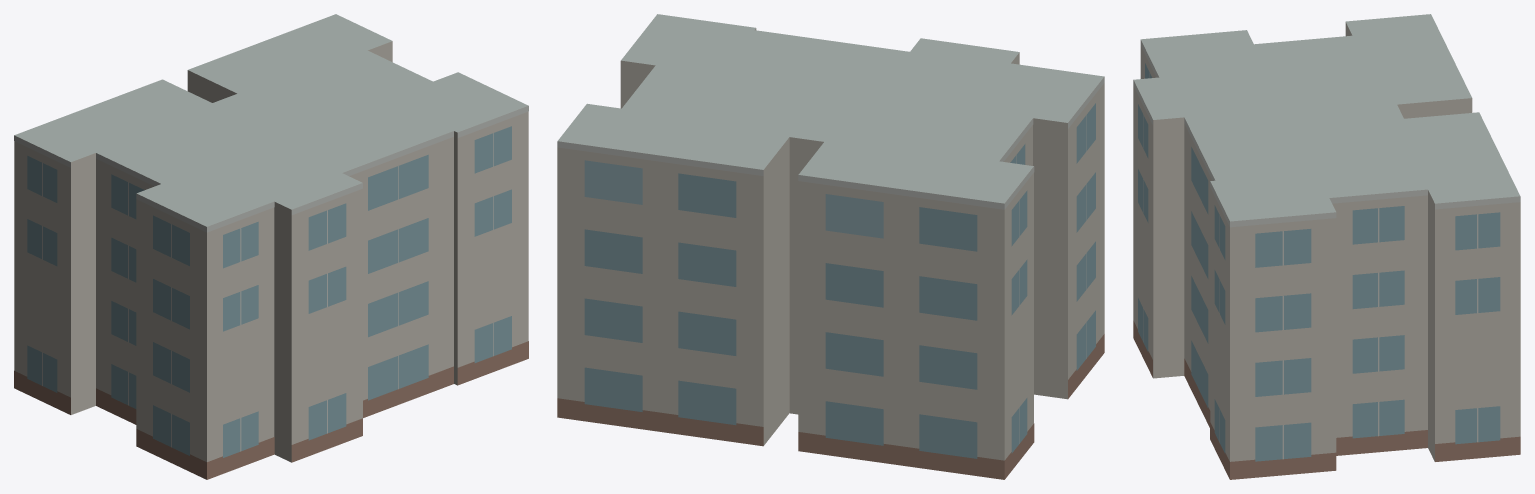
Rendered from survey-upis-32965004.glb.
3 views of the same model, side by side, from view 1: azimuth 30°, elevation 25°; view 2: azimuth 150°, elevation 25°; view 3: azimuth 270°, elevation 25° (orthographic). The views are drawn at different scales.
Visible parts, largest first — view 1: survey-upis-32965004.tmp; view 2: survey-upis-32965004.tmp; view 3: survey-upis-32965004.tmp.
Boxes of the visible parts, x1=… form: survey-upis-32965004.tmp: x1=14, y1=14, x2=528, y2=479; survey-upis-32965004.tmp: x1=557, y1=14, x2=1104, y2=479; survey-upis-32965004.tmp: x1=1133, y1=14, x2=1520, y2=479.
Bounding box in the file's own units: 18.61 × 10.8 × 14.67.
